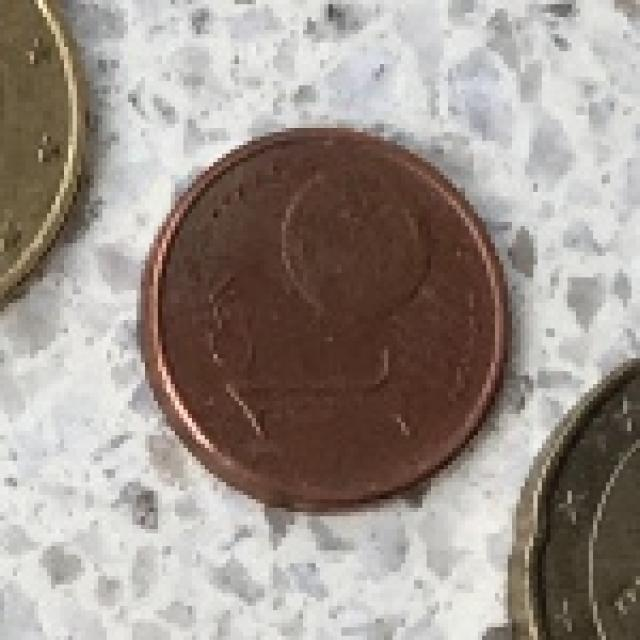1c: (137, 119, 512, 512)
